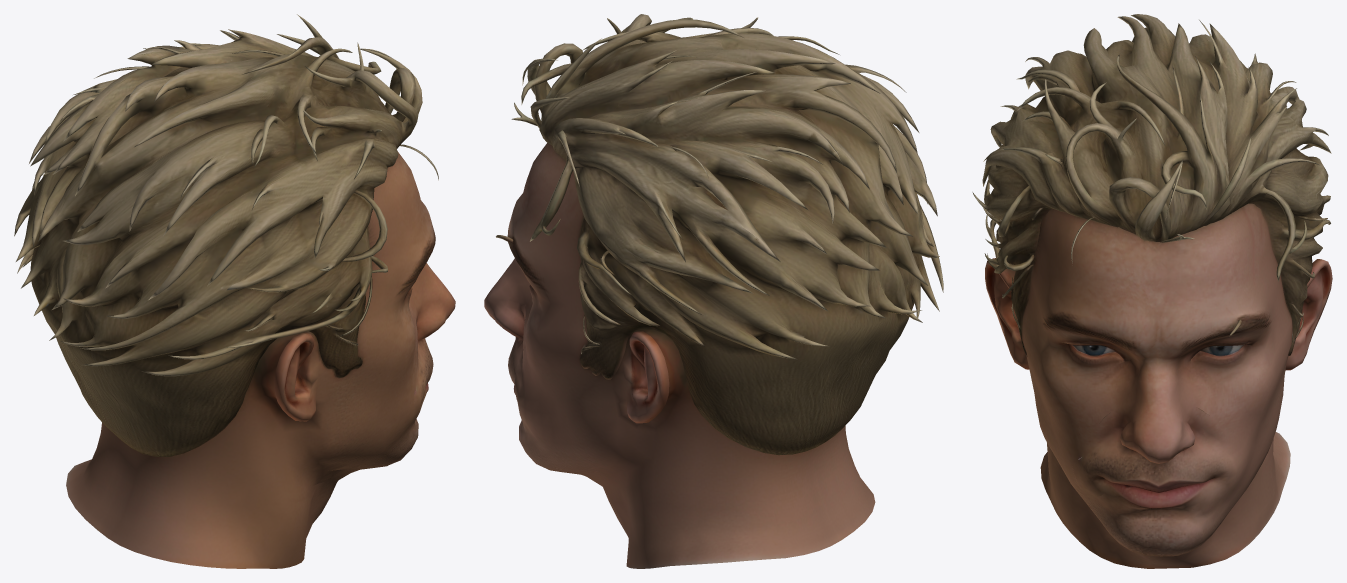
The model's file is source.glb.
3 renders of one model, left to right at view 1: azimuth 30°, elevation 25°; view 2: azimuth 150°, elevation 25°; view 3: azimuth 270°, elevation 25°, orthographic. The views are drawn at different scales.
Parts seen in each view (by area): view 1: tripo_node_1d648c53-9e41-422d-ad30-571ccaf94670; view 2: tripo_node_1d648c53-9e41-422d-ad30-571ccaf94670; view 3: tripo_node_1d648c53-9e41-422d-ad30-571ccaf94670.
Boxes of the visible parts, x1,y1,x2,y2 form: tripo_node_1d648c53-9e41-422d-ad30-571ccaf94670: [14, 14, 455, 568]; tripo_node_1d648c53-9e41-422d-ad30-571ccaf94670: [484, 14, 943, 568]; tripo_node_1d648c53-9e41-422d-ad30-571ccaf94670: [972, 14, 1332, 568].
Size of the model in its own units: 0.8687 by 0.9995 by 0.6616.
1 material, 1 textured.
